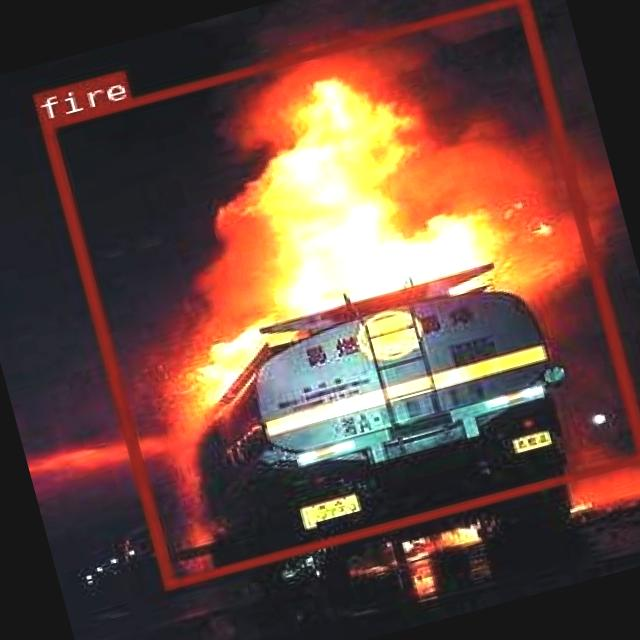fire: (38, 0, 640, 589)
